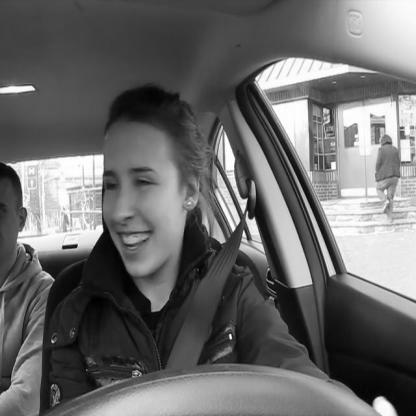seatbelt: (88, 75, 268, 416)
